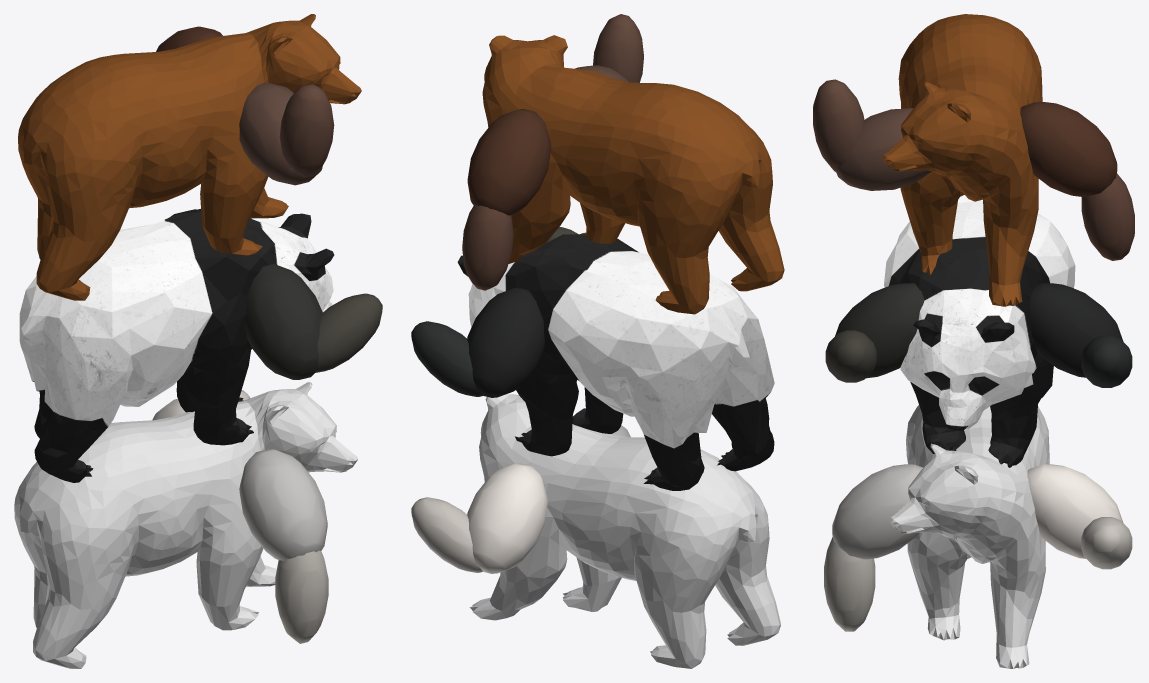
File: bearbear4.glb
3 renders of one model, left to right at view 1: azimuth 30°, elevation 25°; view 2: azimuth 150°, elevation 25°; view 3: azimuth 270°, elevation 25°, orthographic. The views are drawn at different scales.
Visible parts, largest first — view 1: brown_bear1, brown_bear002, panda1, pbRUArm.001, pRUArm.001, bbRUArm.001, pbRFArm.001, bbRFArm.001, pRFArm.001, bbLUArm.001; view 2: brown_bear1, panda1, brown_bear002, bbLUArm.001, pbLUArm.001, pLUArm.001, bbLFArm.001, pLFArm.001, pbLFArm.001, bbRFArm.001; view 3: brown_bear1, panda1, brown_bear002, bbLUArm.001, pbRUArm.001, pLUArm.001, pbLUArm.001, pRUArm.001, bbRUArm.001, pbRFArm.001, bbRFArm.001, bbLFArm.001 (+3 smaller).
Part boxes in pixels (x1,y1,x2,y2): brown_bear1: [18, 14, 361, 300]; brown_bear002: [14, 382, 357, 668]; panda1: [19, 209, 334, 482]; pbRUArm.001: [239, 449, 327, 560]; pRUArm.001: [245, 264, 322, 379]; bbRUArm.001: [239, 82, 322, 185]; pbRFArm.001: [275, 550, 328, 643]; bbRFArm.001: [279, 84, 334, 177]; pRFArm.001: [315, 293, 382, 372]; bbLUArm.001: [156, 26, 222, 51]; brown_bear1: [482, 35, 784, 314]; panda1: [457, 234, 774, 490]; brown_bear002: [470, 393, 780, 668]; bbLUArm.001: [467, 109, 551, 215]; pbLUArm.001: [467, 463, 547, 573]; pLUArm.001: [467, 287, 544, 397]; bbLFArm.001: [462, 205, 513, 290]; pLFArm.001: [411, 321, 482, 396]; pbLFArm.001: [411, 497, 482, 572]; bbRFArm.001: [593, 14, 643, 82]; brown_bear1: [882, 14, 1042, 306]; panda1: [884, 201, 1075, 467]; brown_bear002: [889, 405, 1049, 668]; bbLUArm.001: [1020, 102, 1117, 196]; pbRUArm.001: [832, 464, 923, 559]; pLUArm.001: [1029, 283, 1123, 377]; pbLUArm.001: [1027, 464, 1123, 558]; pRUArm.001: [835, 283, 924, 378]; bbRUArm.001: [836, 108, 931, 190]; pbRFArm.001: [824, 537, 875, 631]; bbRFArm.001: [813, 79, 864, 171]; bbLFArm.001: [1081, 173, 1134, 260].
Size of the model in its own units: 2.48 by 4.39 by 2.25.
18 materials, 1 textured.
